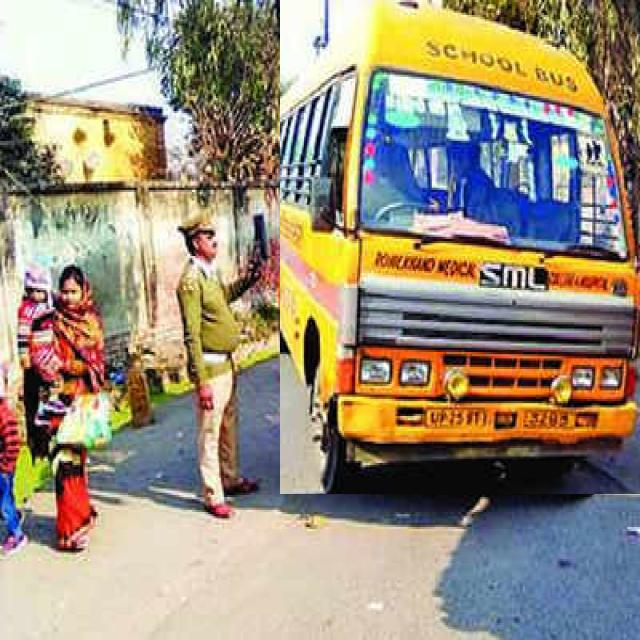bus: (280, 0, 640, 494)
